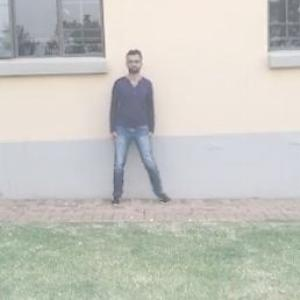follow: (107, 46, 155, 207)
